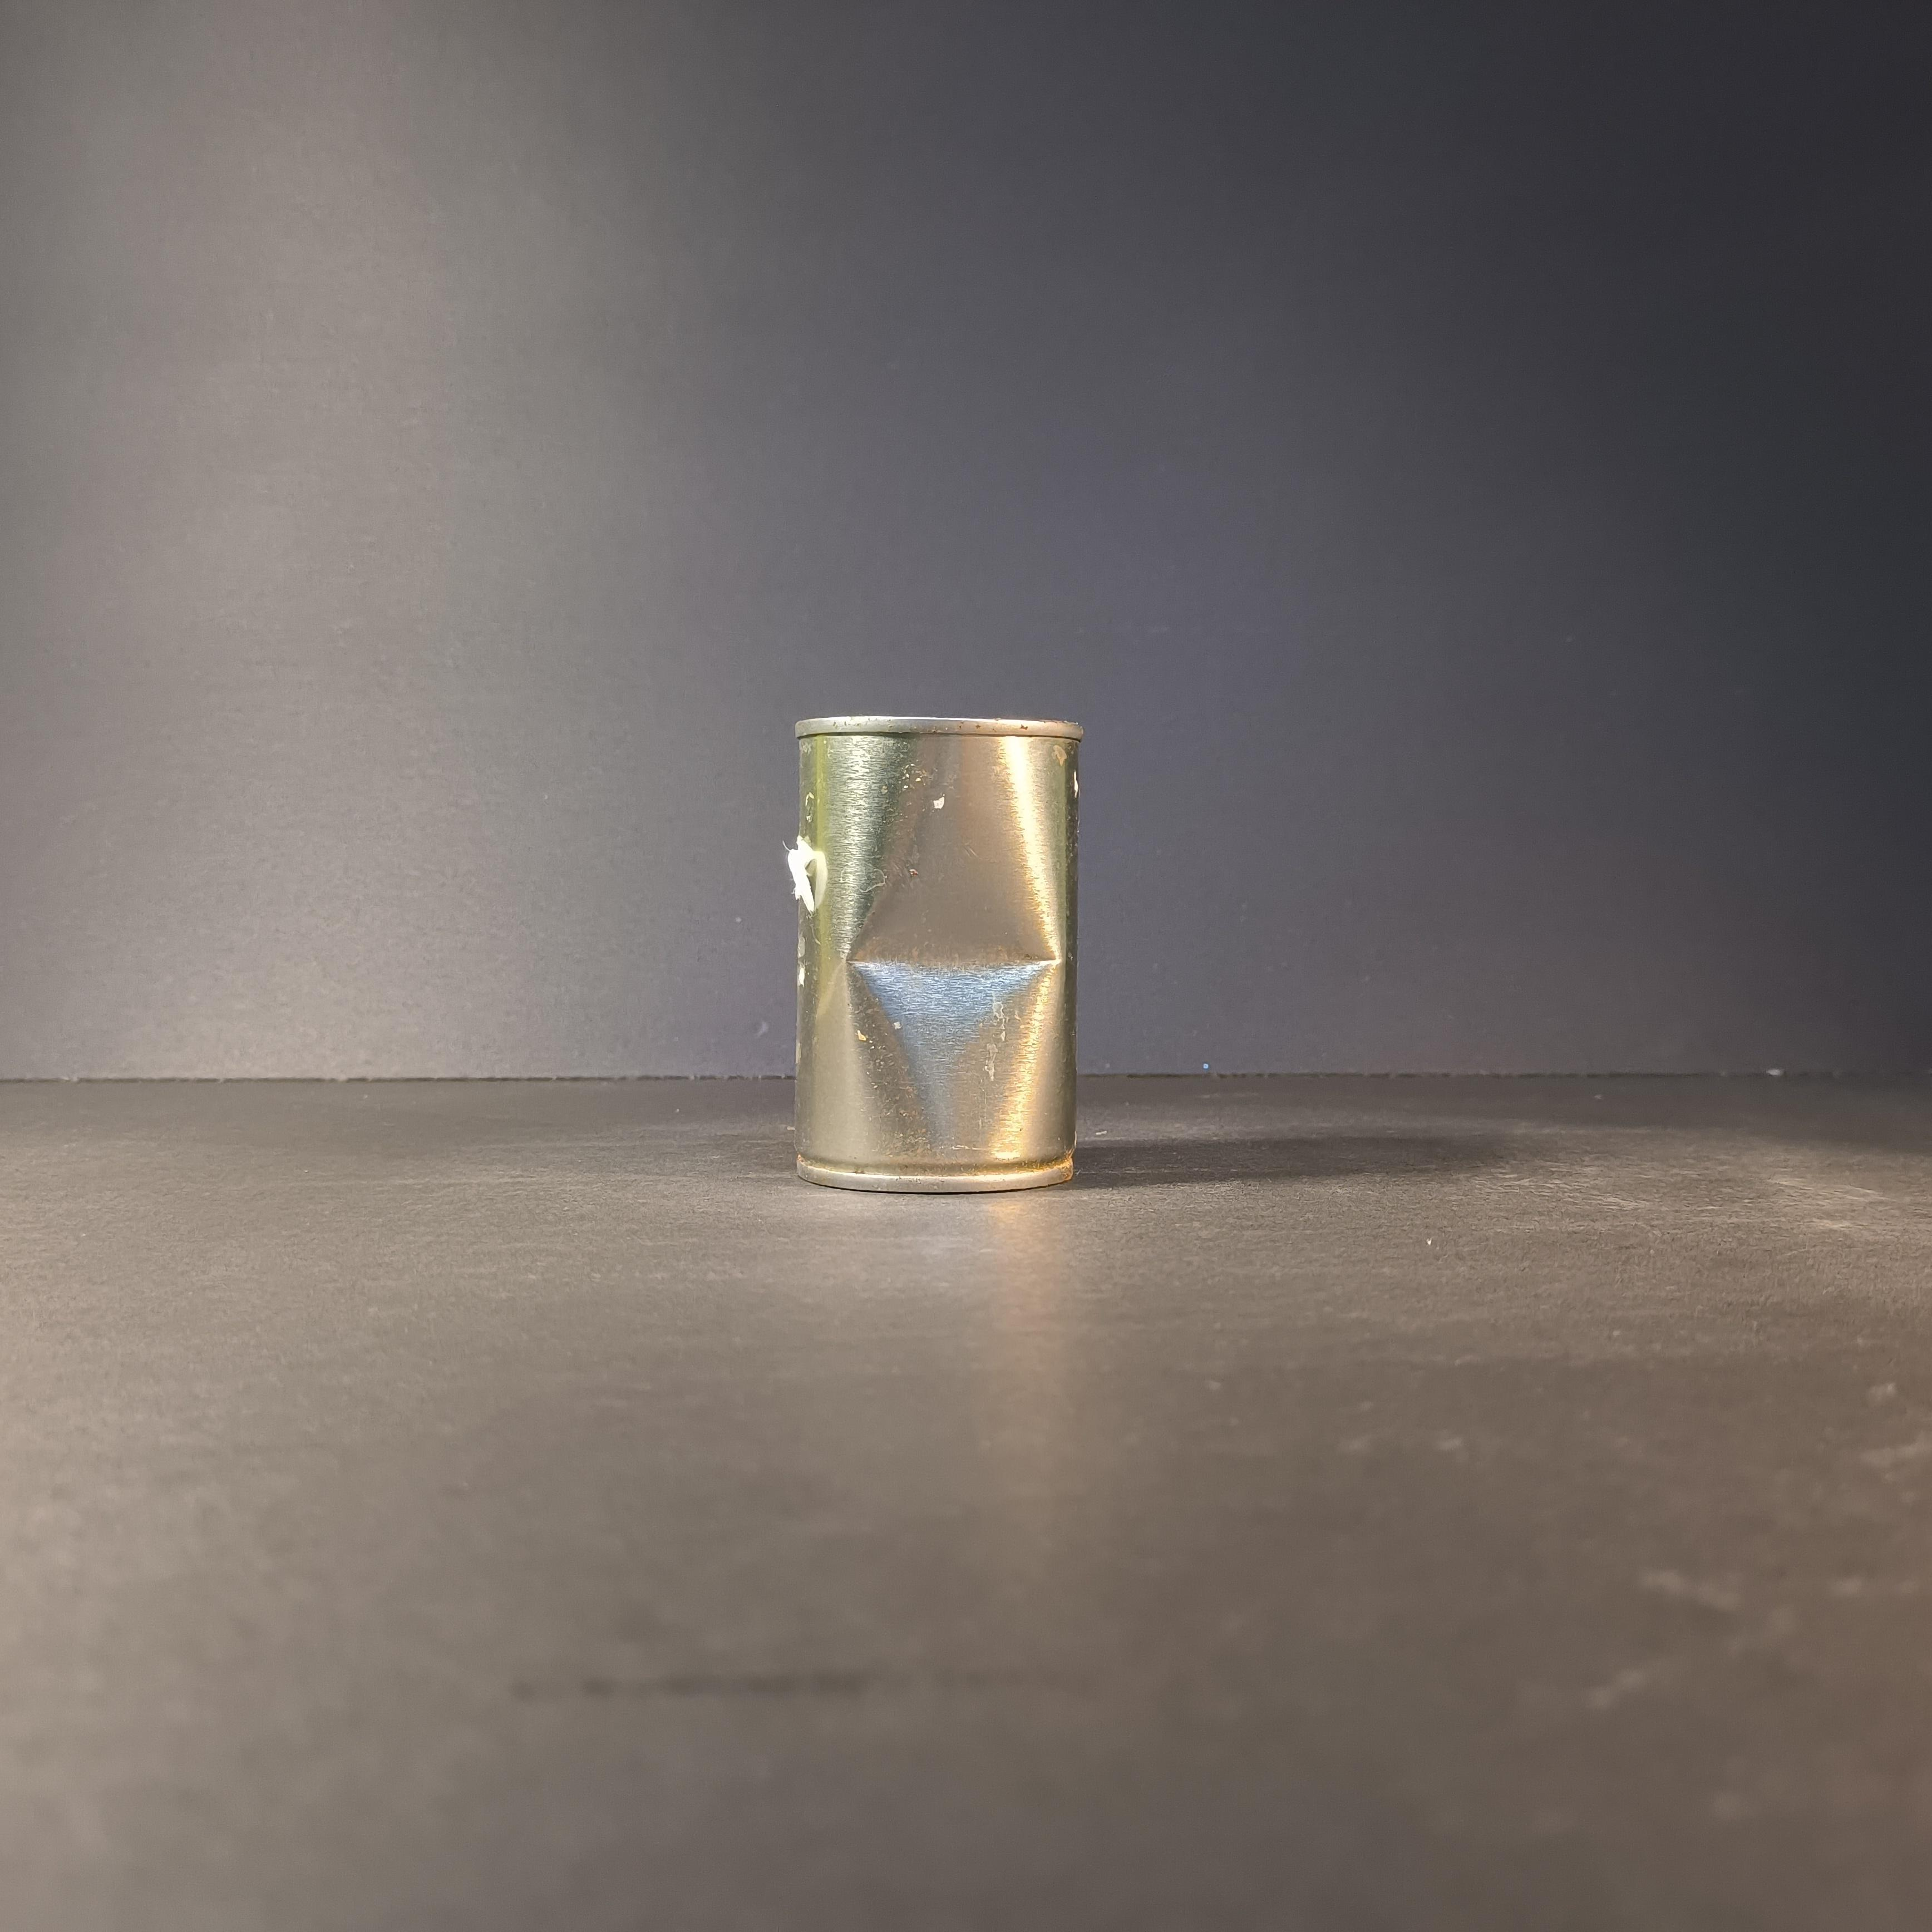Dented: (763, 690, 1109, 1207)
